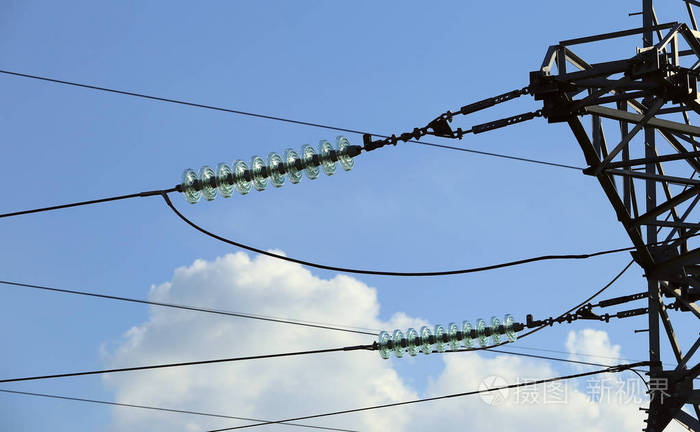insulator: (178, 133, 355, 203), (377, 314, 518, 363)
